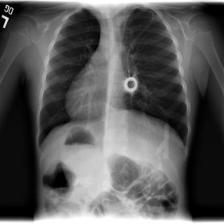normal: (31, 4, 190, 156)
